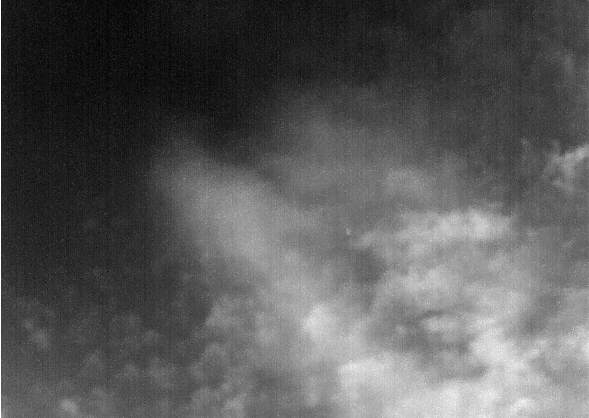dim target: (343, 226, 353, 238)
